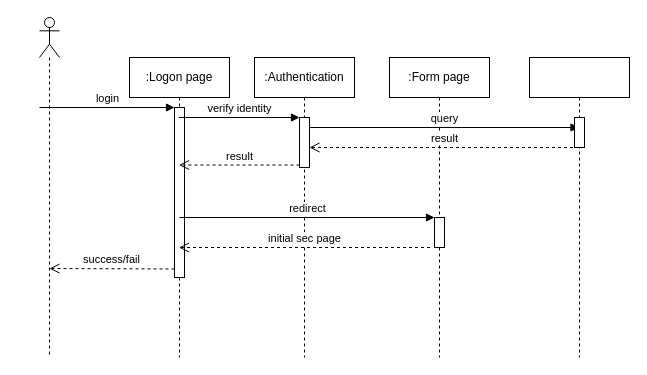
Some shapes in this 647 by 375 pixel diagram are drawn without their labels. The shapes that lost their labels are listed below. From the top down, each one's box as (x1, y1, x2, y2) in pixels, then its label:
(38, 16, 60, 358): Respondent
(528, 56, 630, 358): :Database
